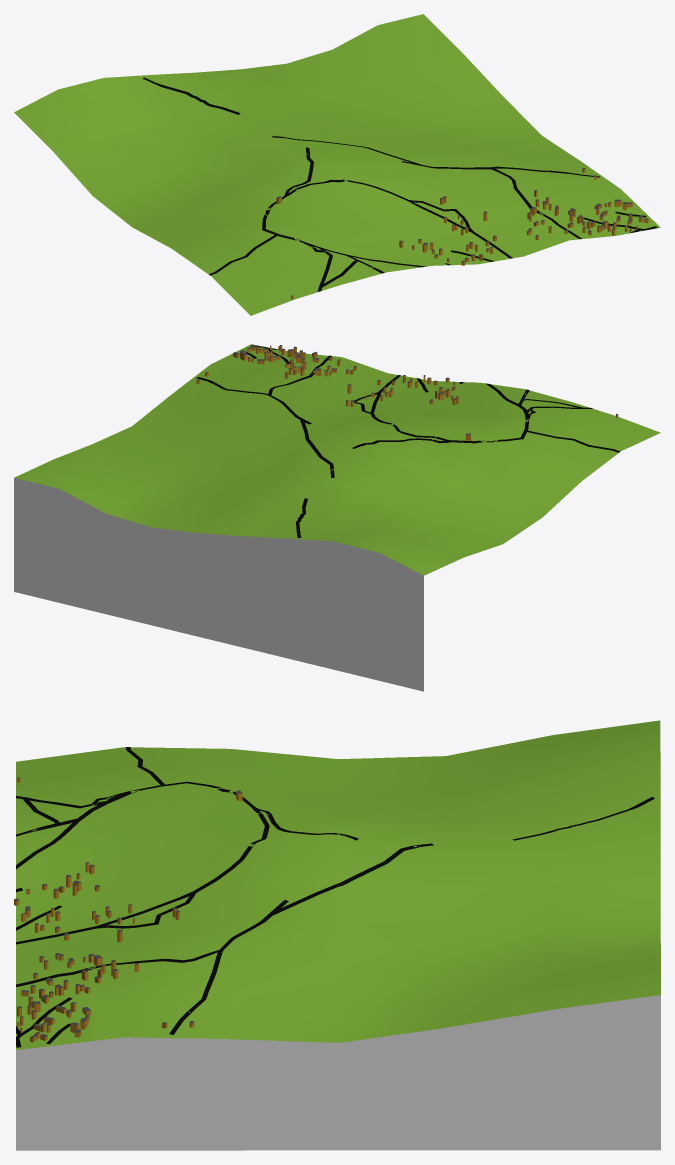
Rendered from tile_11_07.glb.
3 views of the same model, one above another, from view 1: azimuth 30°, elevation 25°; view 2: azimuth 150°, elevation 25°; view 3: azimuth 270°, elevation 25° (orthographic). The views are drawn at different scales.
Visible parts, largest first — view 1: Terrain_11_07, Ub_small.osm_roads_residential_11_07, Ub_small.osm_buildings_11_07; view 2: Terrain_11_07, Ub_small.osm_roads_residential_11_07, Ub_small.osm_buildings_11_07; view 3: Terrain_11_07, Ub_small.osm_roads_residential_11_07, Ub_small.osm_buildings_11_07.
Part boxes in pixels (x1,y1,x2,y2): Terrain_11_07: (14,14,660,315); Ub_small.osm_roads_residential_11_07: (143,77,657,291); Ub_small.osm_buildings_11_07: (276,168,648,299); Terrain_11_07: (14,344,660,691); Ub_small.osm_roads_residential_11_07: (196,345,620,537); Ub_small.osm_buildings_11_07: (196,344,618,440); Terrain_11_07: (16,720,660,1150); Ub_small.osm_roads_residential_11_07: (16,747,654,1047); Ub_small.osm_buildings_11_07: (14,777,242,1042).
Size of the model in its own units: 929 by 278 by 933.
